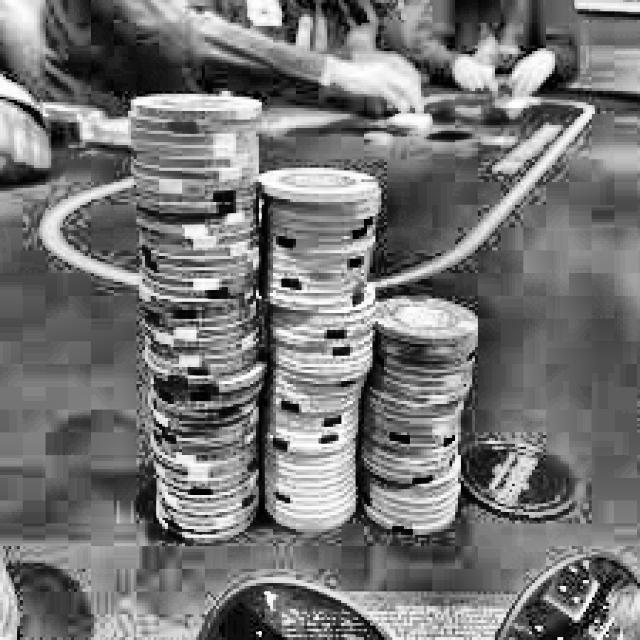Chip: (122, 84, 264, 555), (247, 166, 383, 540), (361, 288, 480, 538)
